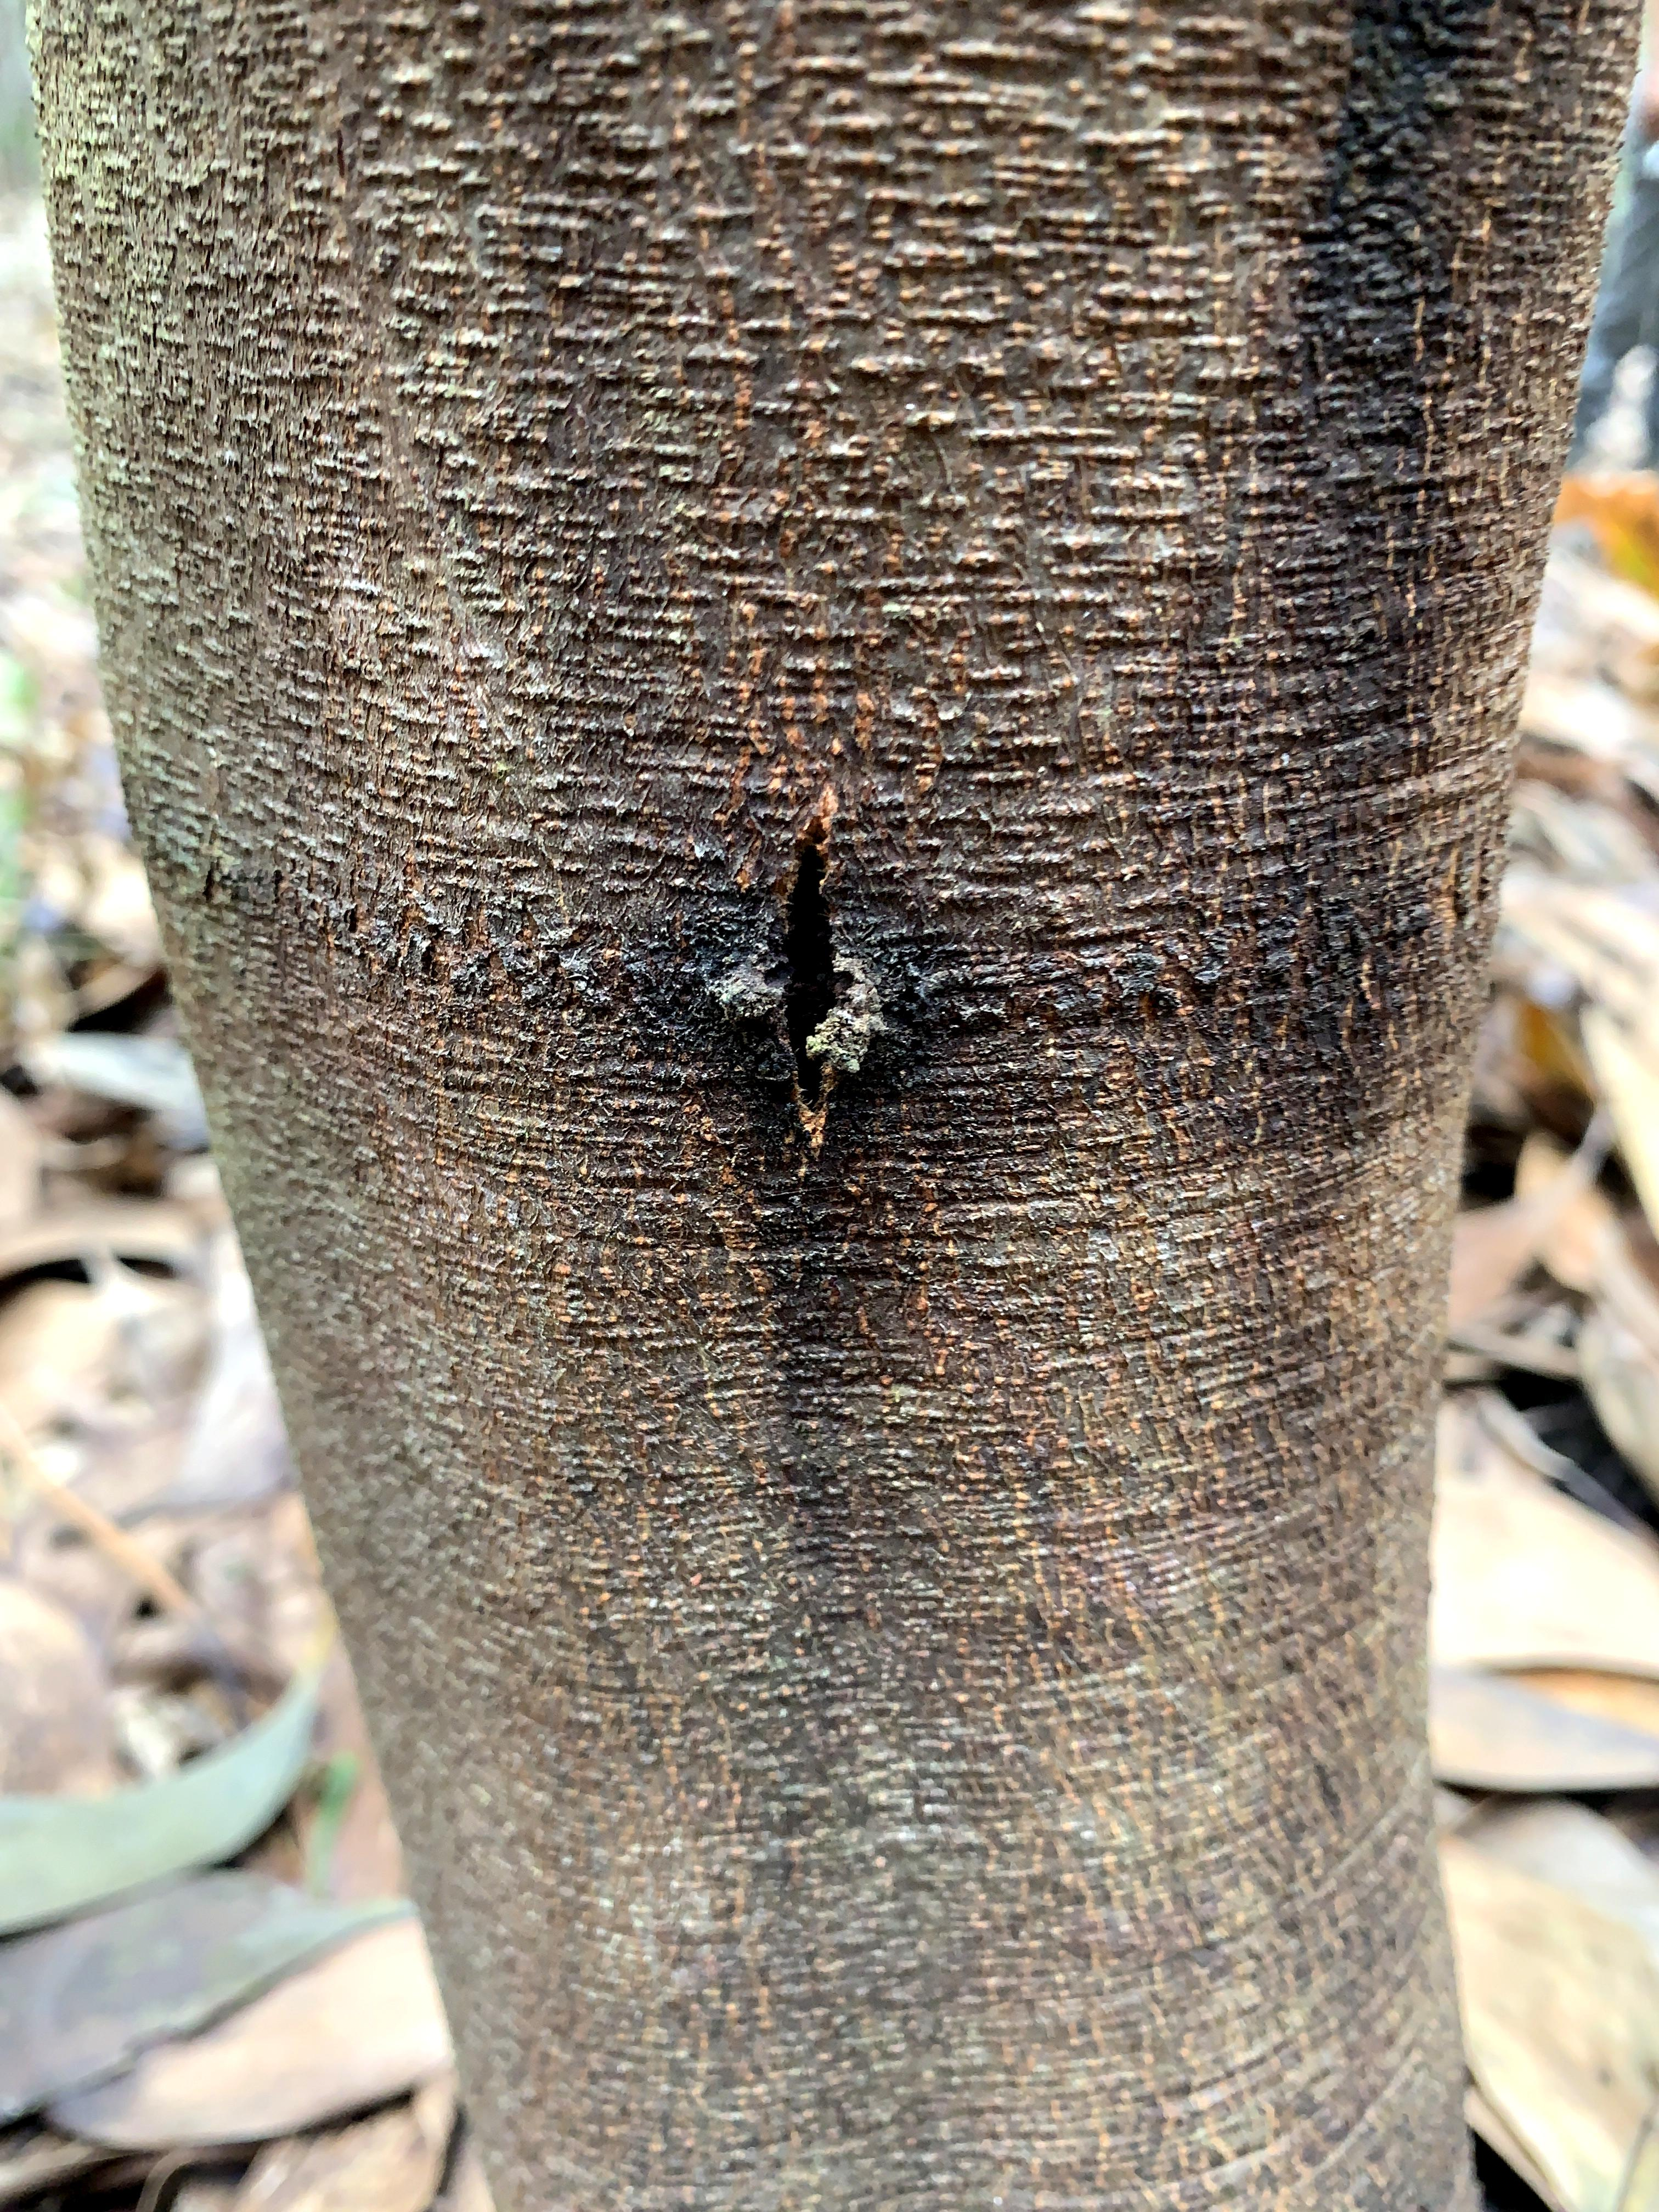Stem Borer: (495, 627, 1126, 1353)
